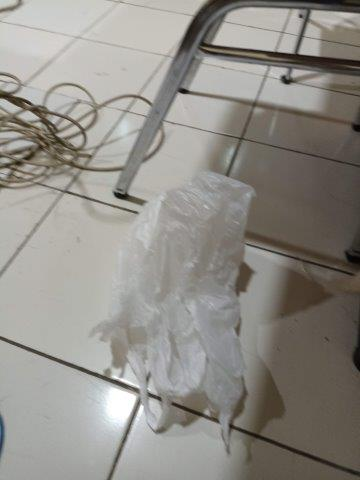plastik: (115, 173, 253, 438)
